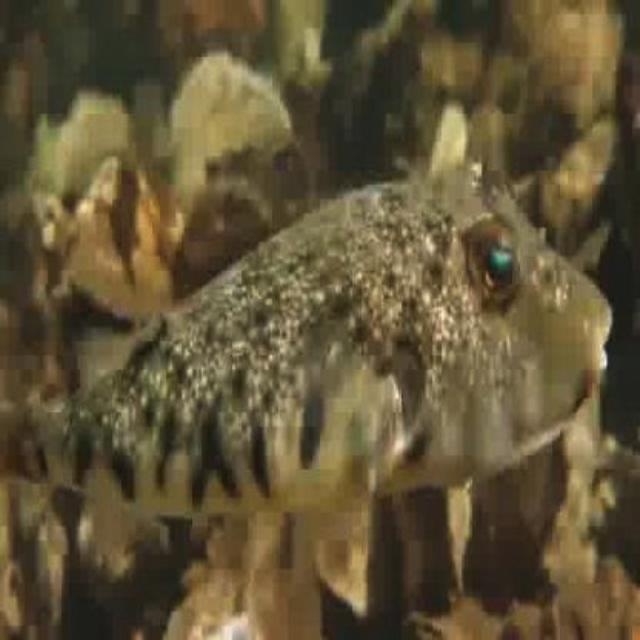Oyster-Closed: (171, 55, 296, 229), (324, 0, 439, 165), (59, 95, 139, 205), (540, 16, 618, 115), (184, 185, 270, 270), (409, 602, 498, 640)
Oyster-Open: (72, 165, 174, 321)
